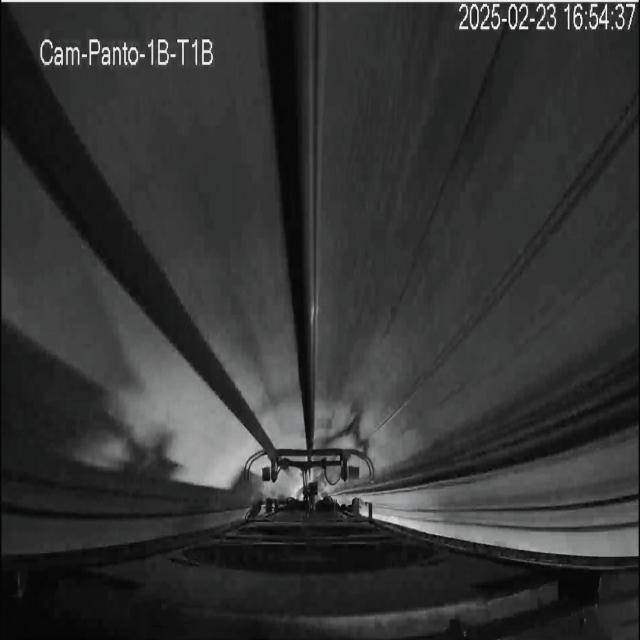Camera Stamp: (35, 28, 220, 69)
Date Stamp: (459, 3, 636, 33)
No - Spark: (244, 446, 374, 516)
